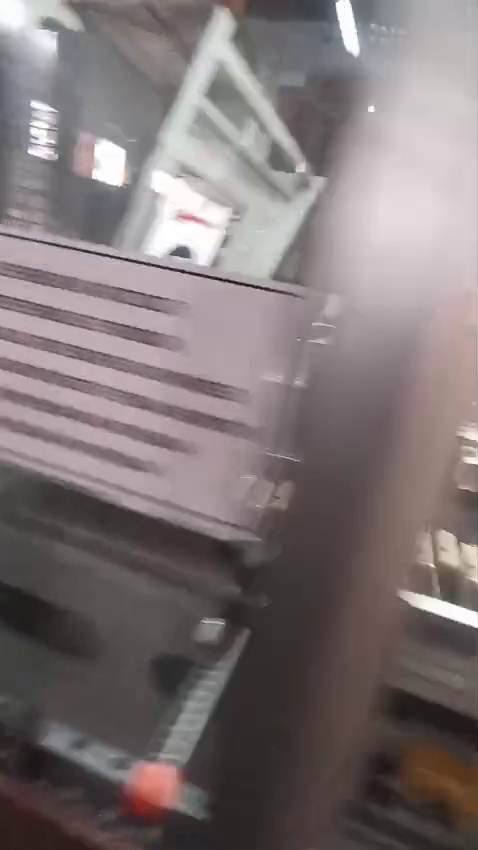savon: (394, 736, 478, 838), (378, 688, 427, 740), (431, 542, 464, 580), (314, 688, 330, 752), (292, 660, 304, 704), (340, 735, 354, 768), (228, 0, 248, 16), (448, 496, 464, 512)
